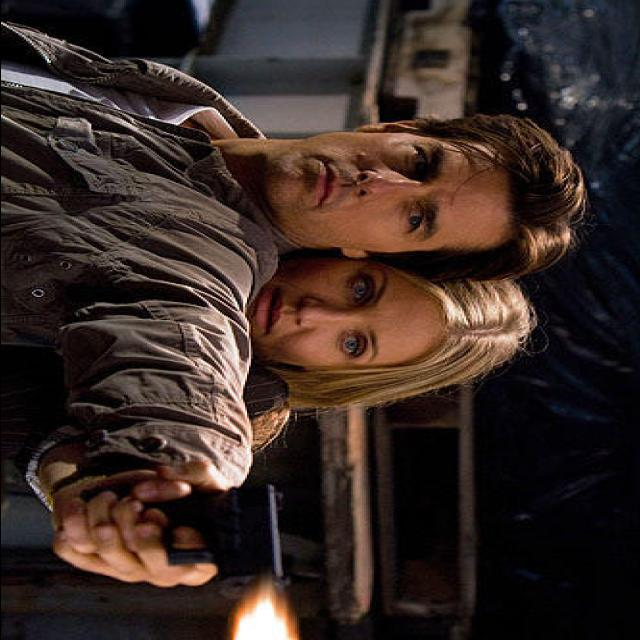weapons: (67, 469, 306, 601)
